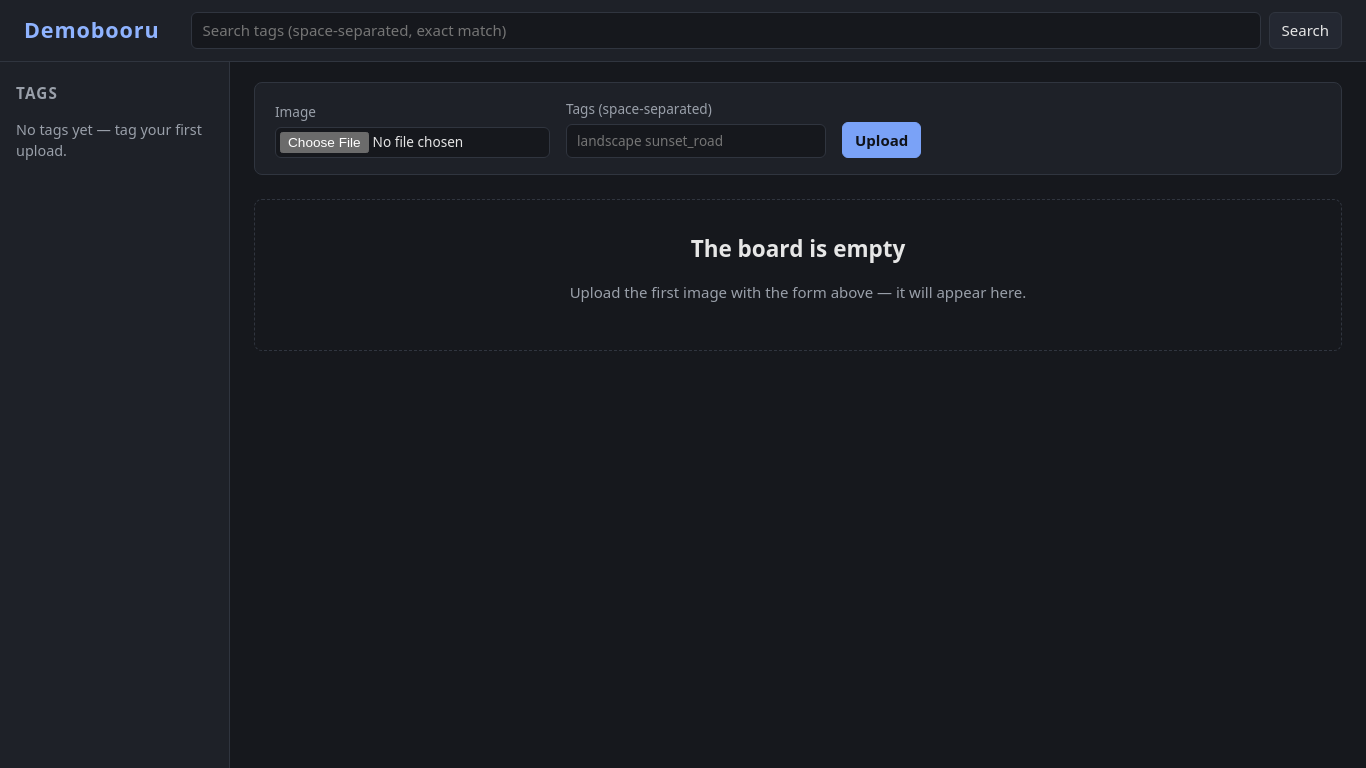
it: search › clearing the search returns to browsing everything
Step 1. Type "cat" into the field labelled "Search tags" → {"x": 726, "y": 30}, box [192,12,1260,48]
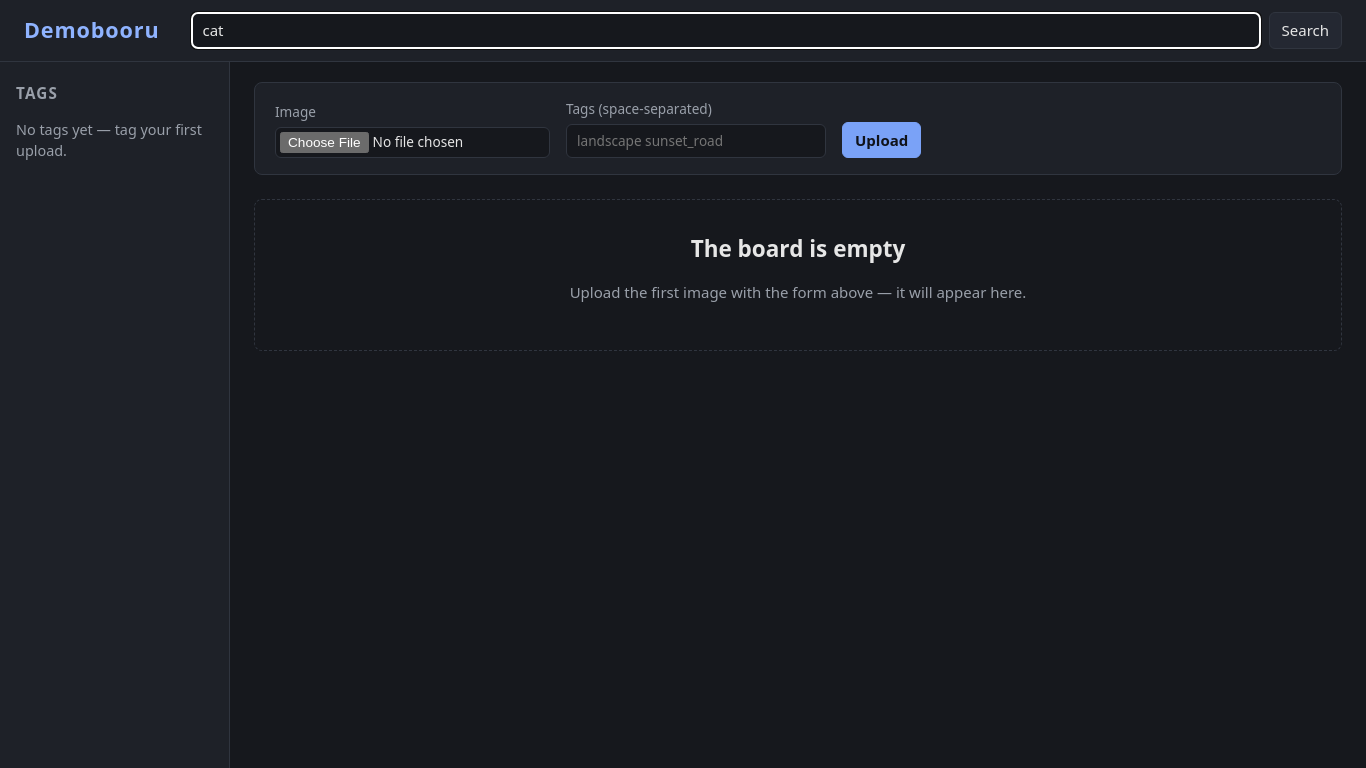
Step 2. Click the button "Search" → {"x": 1305, "y": 30}, box [1268,12,1342,48]
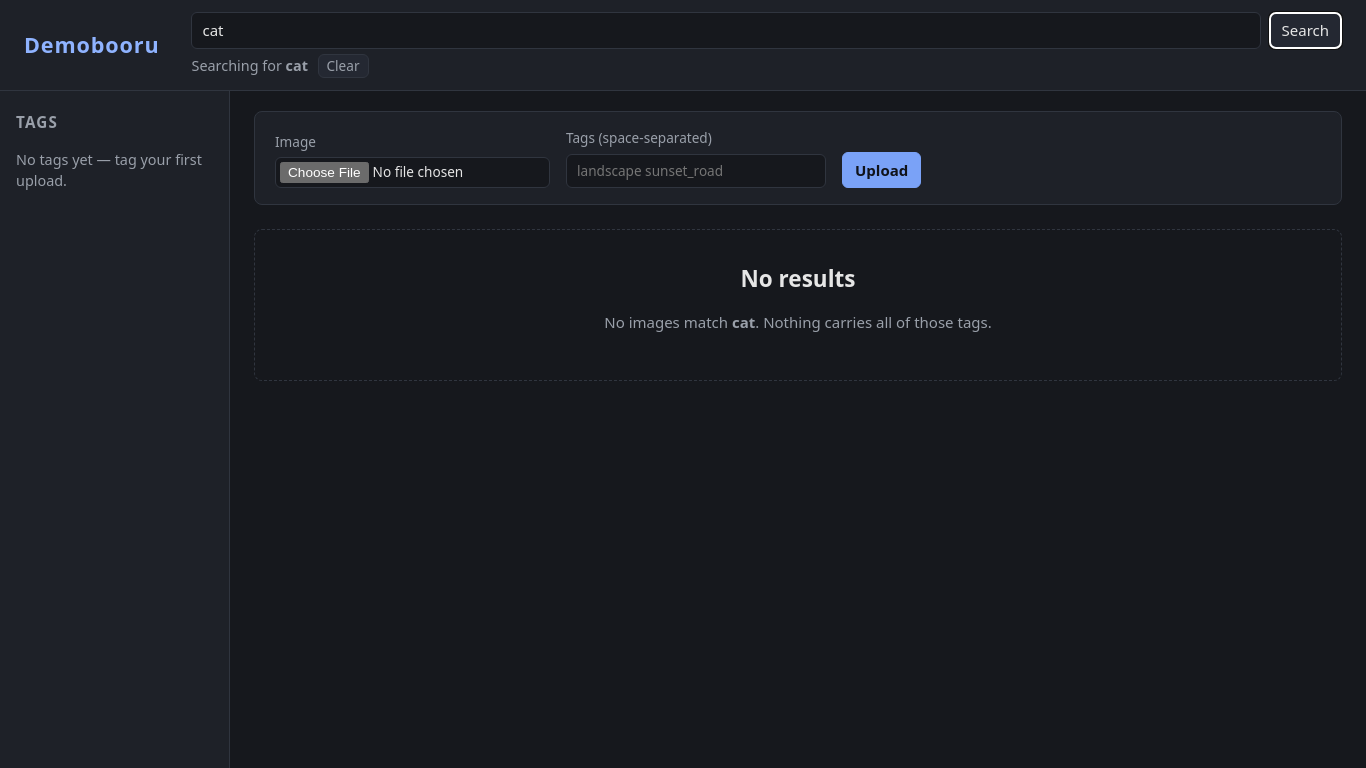
Now the text "Searching for cat Clear" is shown, box [192,54,368,78]
Step 3. Click the button "Clear" → {"x": 343, "y": 66}, box [318,54,368,78]
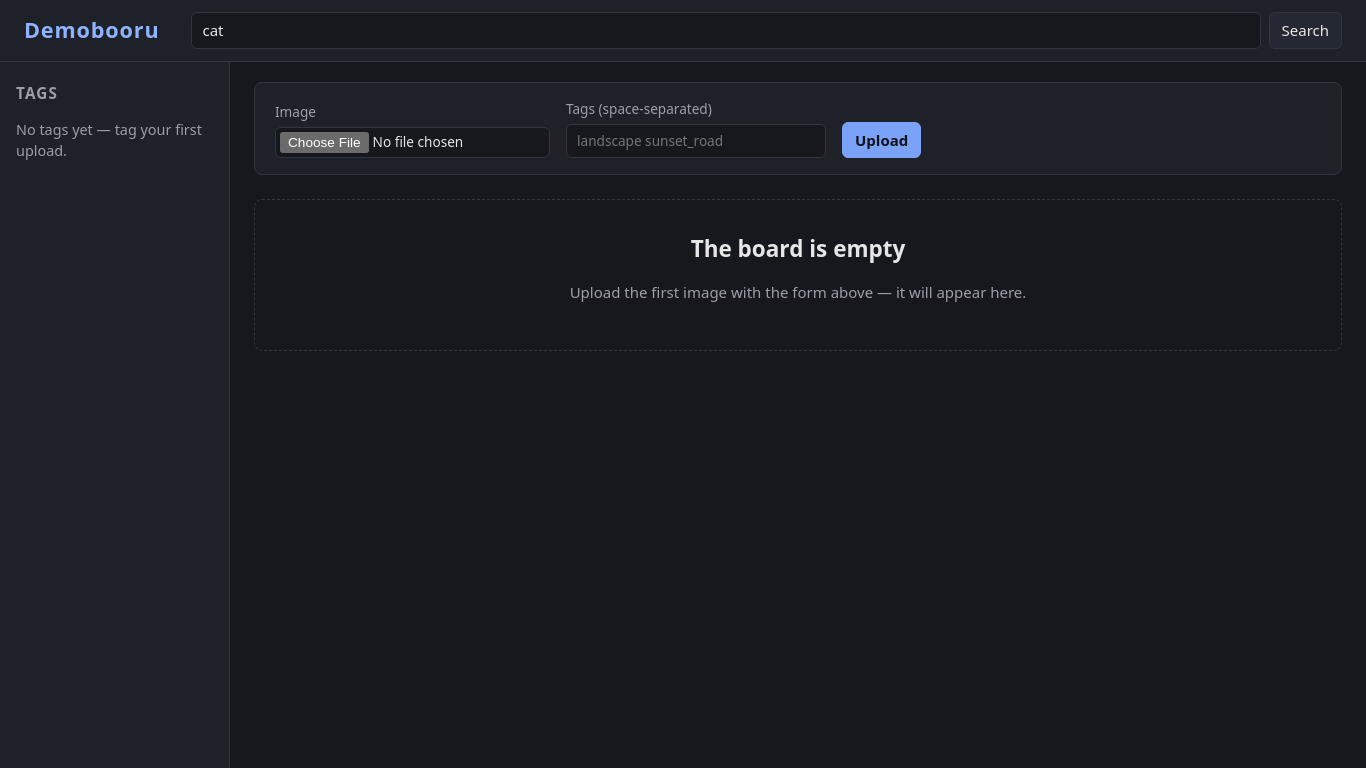
Now the heading "The board is empty" is shown, box [691,233,905,264]
